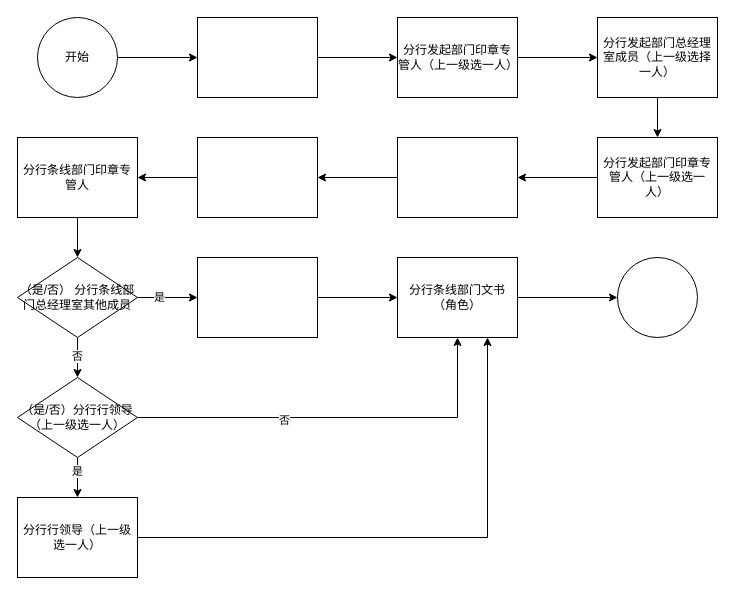
Some shapes in this 735 by 595 pixel diagram are drawn without their labels. The centre of each missing label's shape, as x and y in pixels:
"分行发起部门团队（主管、副主管）（上一级选择一人）" goes at [257,57].
"分行条线部门印章专管人（上一级选一人）" goes at [457,177].
"分行条线部门总经理室其他成员（上一级选一人）" goes at [257,297].
"分行条线部门总经理室成员（上一级选择一人）" goes at [257,177].
"结束" goes at [657,297].
